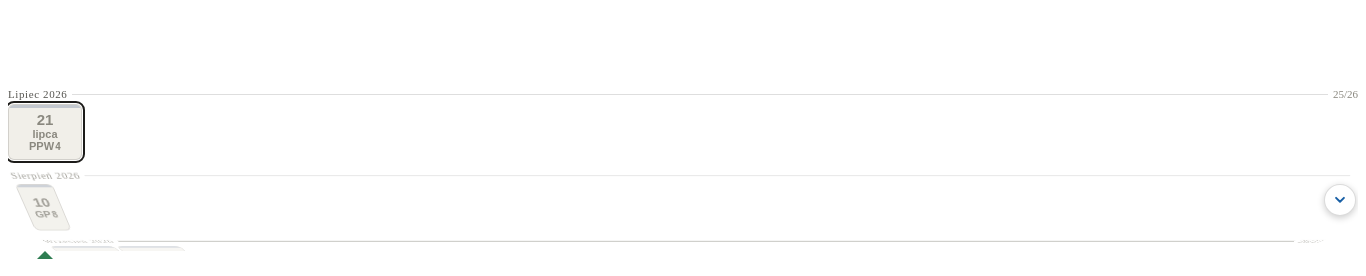
Test case: CalendarBarrel — rotation state › CB.4: rotates a receded row to centre when it is tapped
This screenshot has width=1366, height=276.
Click the button "Sierpień 2026 10 GP8". click: (45, 200)
box: [8,170,82,230]
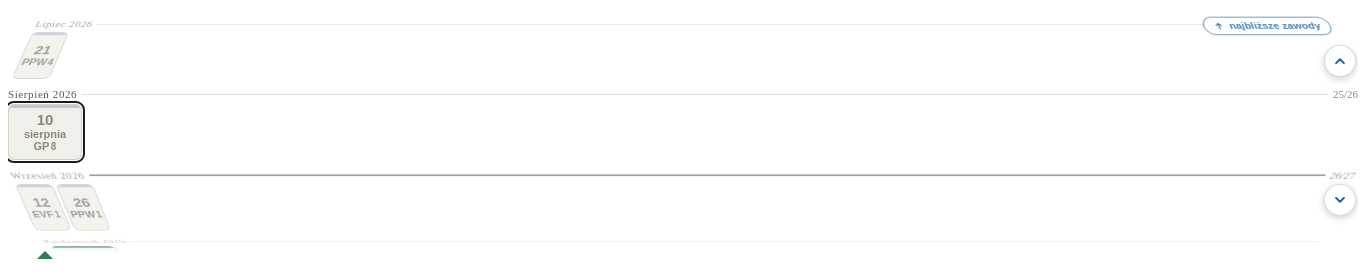
Check: the number of buttons with class "mid" is 1, box [8,87,1358,169]
